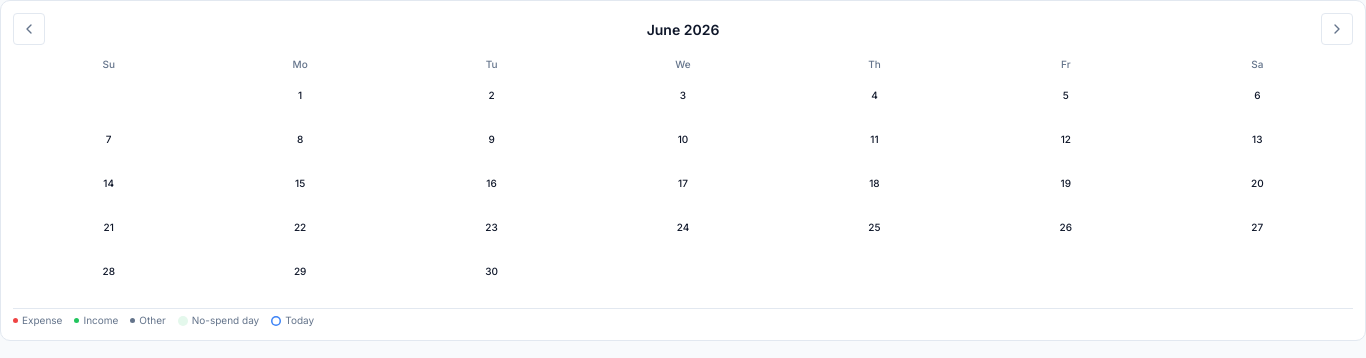
MonthCalendar › navigation › navigates to next month
Click the button named "next month" at (1337, 29), box [1321,13,1353,45]
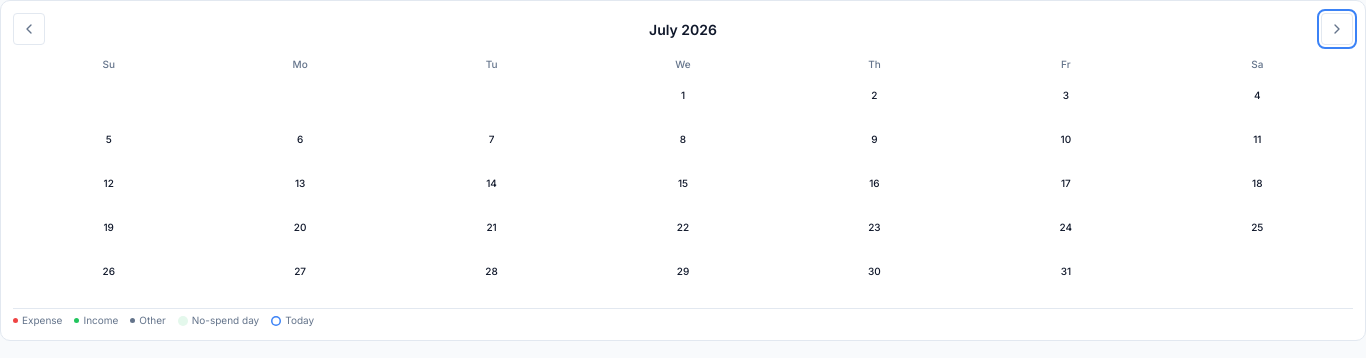
expect the text "July 2026" is shown: met, box [649,18,717,40]
